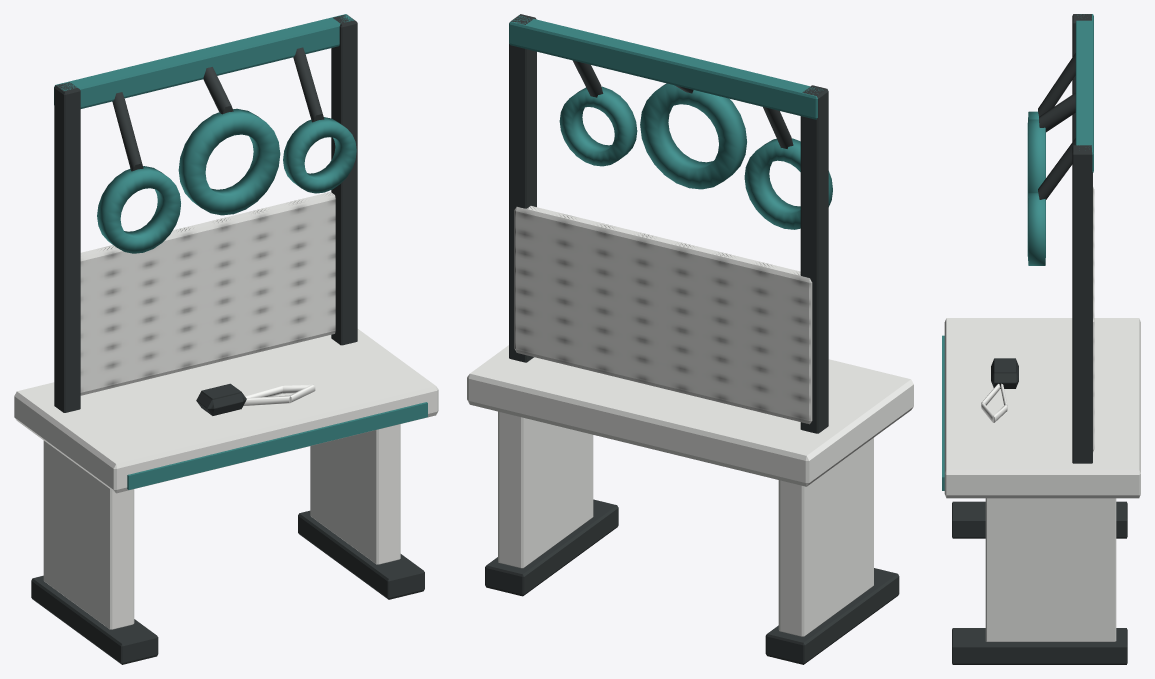
The model's file is s16-eyelet-rail-balanced.glb.
3 views of the same model, side by side, from view 1: azimuth 30°, elevation 25°; view 2: azimuth 150°, elevation 25°; view 3: azimuth 270°, elevation 25° (orthographic). The views are drawn at different scales.
Visible parts, largest first — view 1: Workshop bench, Perforated back and uprights, Three open architectural eyelets, Pocket sample and lime lanyard, Lime lanyard; view 2: Perforated back and uprights, Workshop bench, Three open architectural eyelets; view 3: Workshop bench, Perforated back and uprights, Three open architectural eyelets, Pocket sample and lime lanyard, Lime lanyard.
Part boxes in pixels (x1,y1,x2,y2): Workshop bench: (14,329,438,664); Perforated back and uprights: (54,14,357,412); Three open architectural eyelets: (97,47,356,253); Pocket sample and lime lanyard: (196,383,246,415); Lime lanyard: (243,384,315,406); Perforated back and uprights: (509,14,828,433); Workshop bench: (467,345,913,664); Three open architectural eyelets: (559,60,832,229); Workshop bench: (942,318,1140,664); Perforated back and uprights: (1072,14,1094,463); Three open architectural eyelets: (1027,53,1075,265); Pocket sample and lime lanyard: (991,358,1018,388); Lime lanyard: (981,383,1007,422).
Bounding box in the file's own units: 1.65 × 2.55 × 0.9.
1 material, 1 textured.
